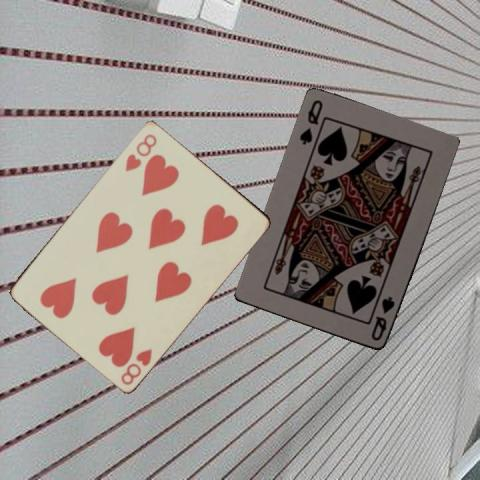8h: (122, 130, 159, 173), (117, 345, 154, 386)
Qs: (368, 294, 397, 343), (296, 97, 324, 146)
